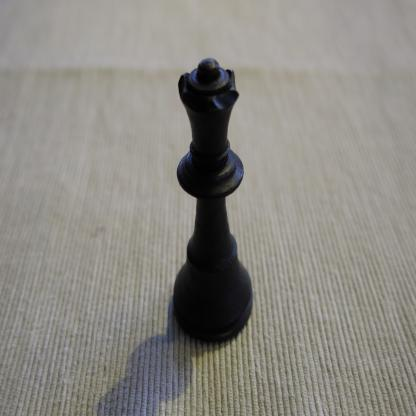black-queen: (172, 57, 254, 344)
